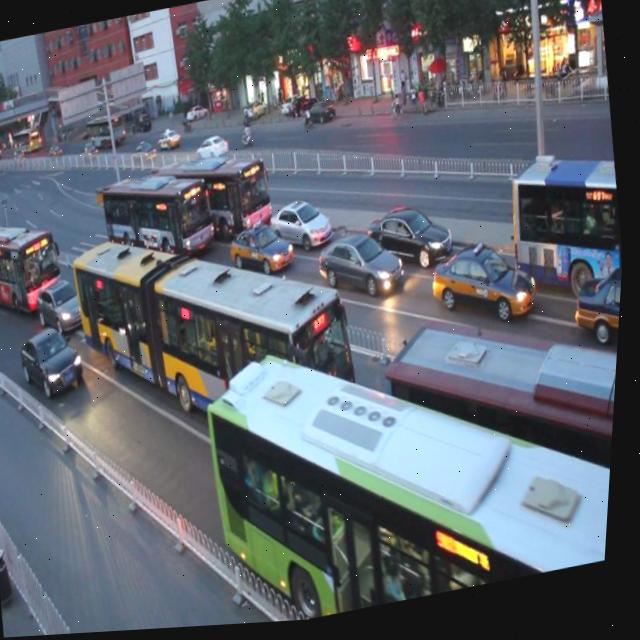car: (428, 233, 545, 343), (314, 221, 409, 313), (367, 197, 460, 280), (18, 318, 94, 405), (226, 213, 299, 286), (266, 189, 337, 262), (568, 271, 626, 352), (37, 273, 97, 339)
van: (197, 291, 625, 629), (59, 190, 382, 512), (374, 293, 625, 607), (501, 149, 632, 306), (96, 155, 223, 281), (152, 138, 281, 255), (0, 205, 68, 313)
